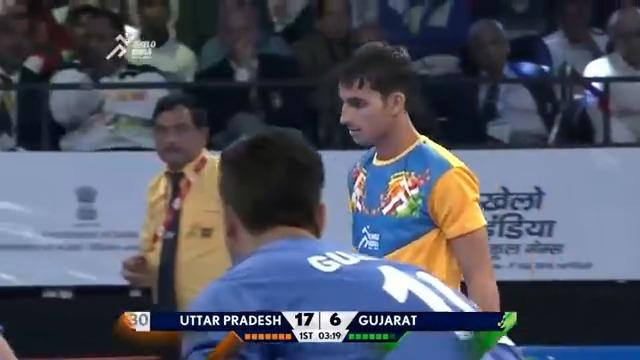Player: (178, 125, 514, 358)
Raider: (335, 41, 522, 358)
referee: (117, 89, 237, 357), (192, 0, 307, 147)
